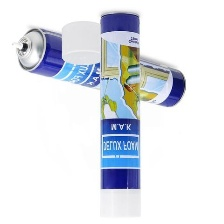aerosol_cans: (8, 23, 188, 112), (95, 7, 143, 220)
